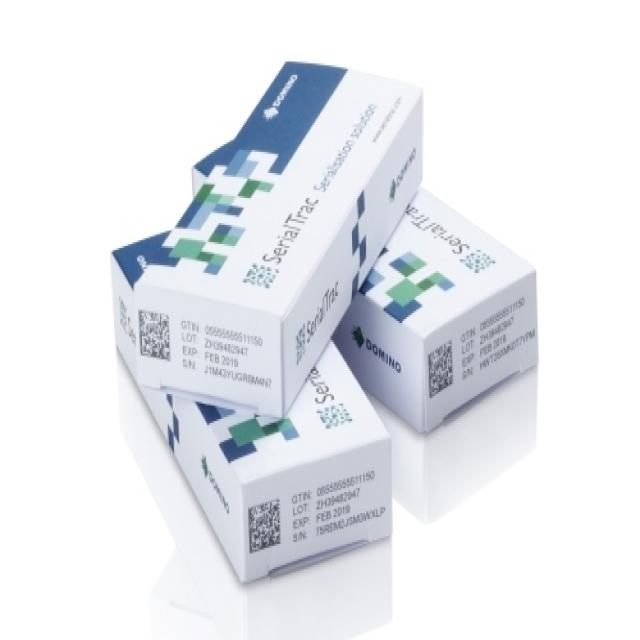datamatrix: (247, 497, 284, 558), (427, 338, 457, 407), (139, 309, 174, 364)
